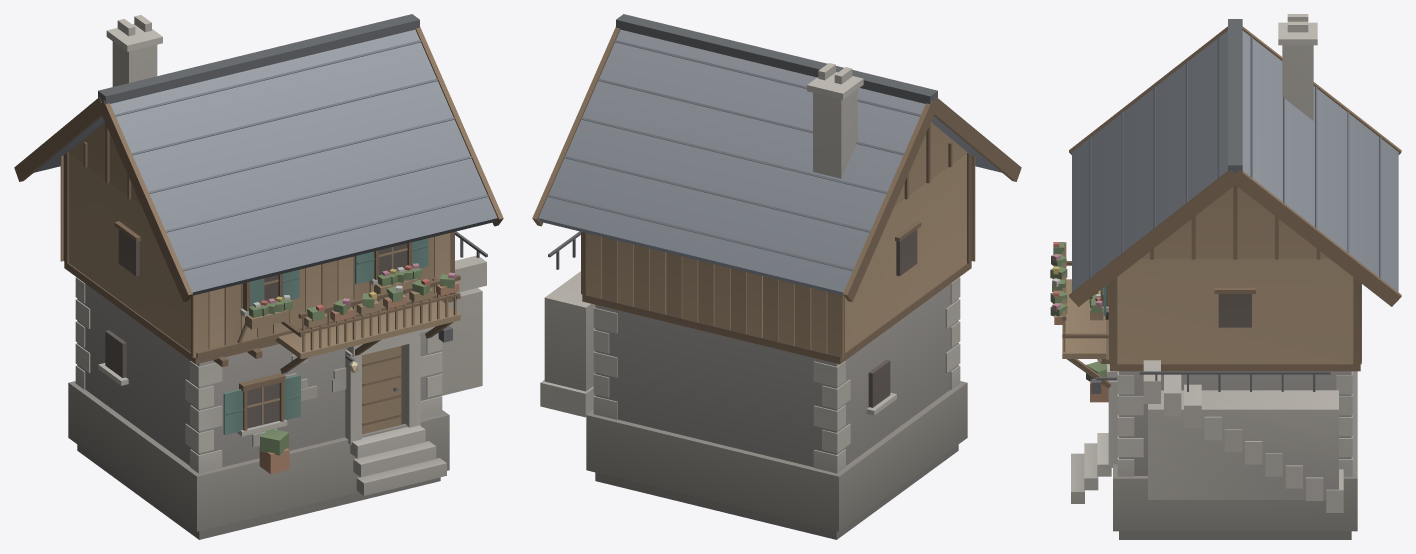
Rendered from vl_house_b.glb.
The picture shows the model from 3 angles, left to right: view 1: azimuth 30°, elevation 25°; view 2: azimuth 150°, elevation 25°; view 3: azimuth 270°, elevation 25°; orthographic projection. The views are drawn at different scales.
Visible parts, largest first — view 1: vl_house_b; view 2: vl_house_b; view 3: vl_house_b.
Part boxes in pixels (left/top/right/bottom): vl_house_b: left=14, top=14, right=503, bottom=539; vl_house_b: left=532, top=14, right=1021, bottom=539; vl_house_b: left=1050, top=14, right=1401, bottom=539.
Size of the model in its own units: 8.95 by 11.22 by 8.46.
